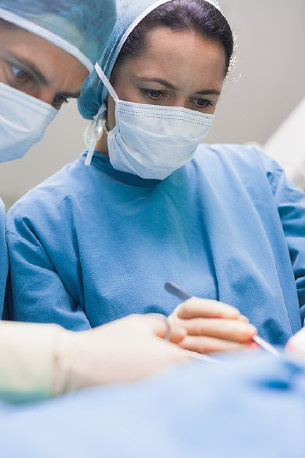Mask: (1, 48, 115, 162)
